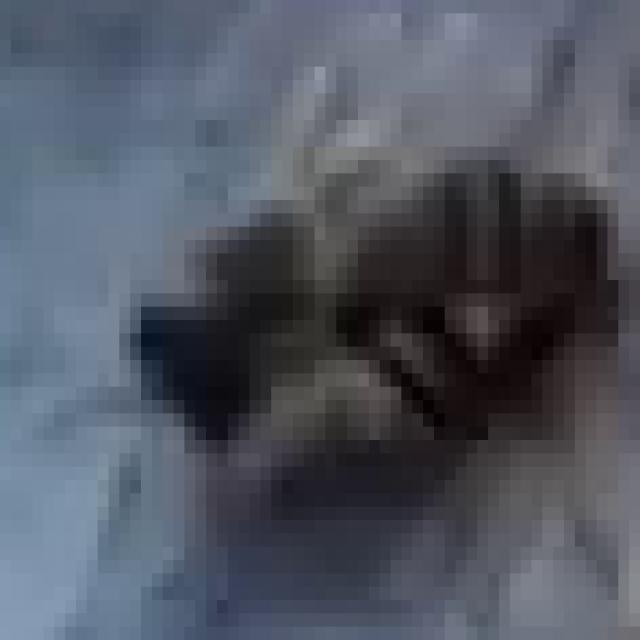honeybee: (128, 74, 621, 563)
